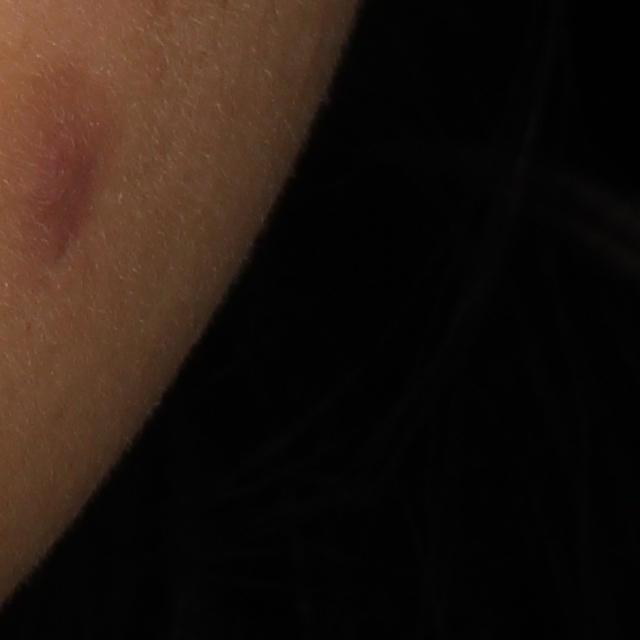nodule: (34, 116, 94, 260)
